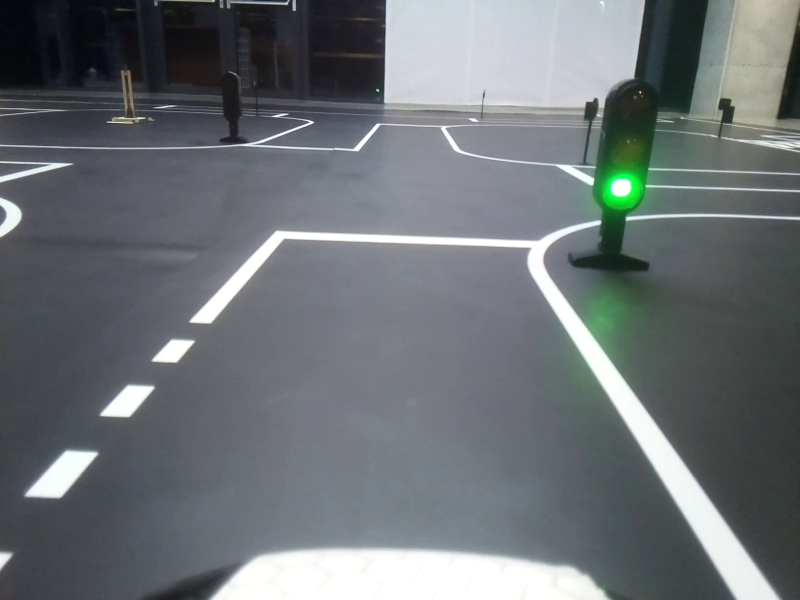traffic_green: (601, 84, 644, 214)
